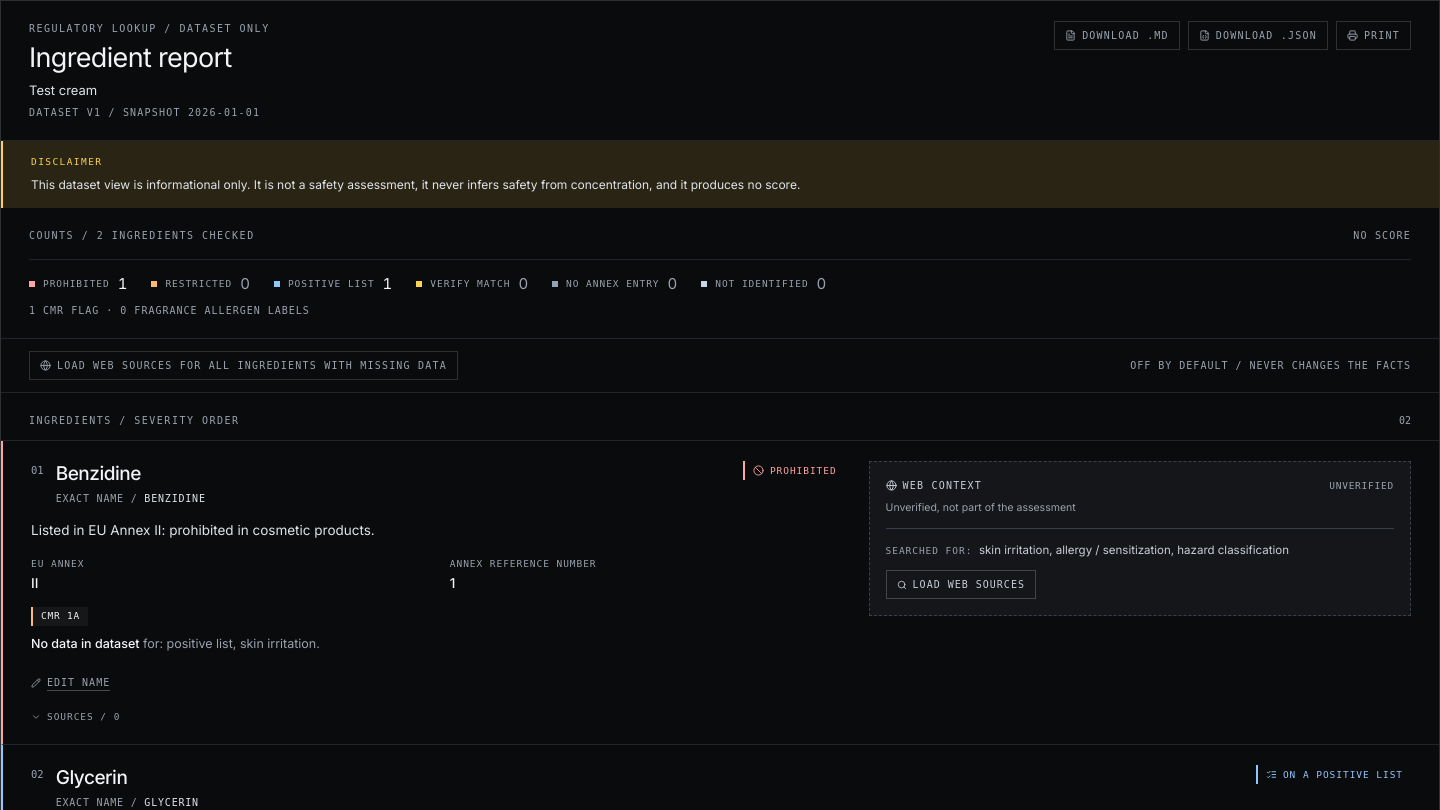
web context › renders verbatim items after a click and never changes the dataset text
This screenshot has width=1440, height=810.
Click the button "Load web sources" at (961, 584), box top-left (886, 570), bottom-right (1036, 599)
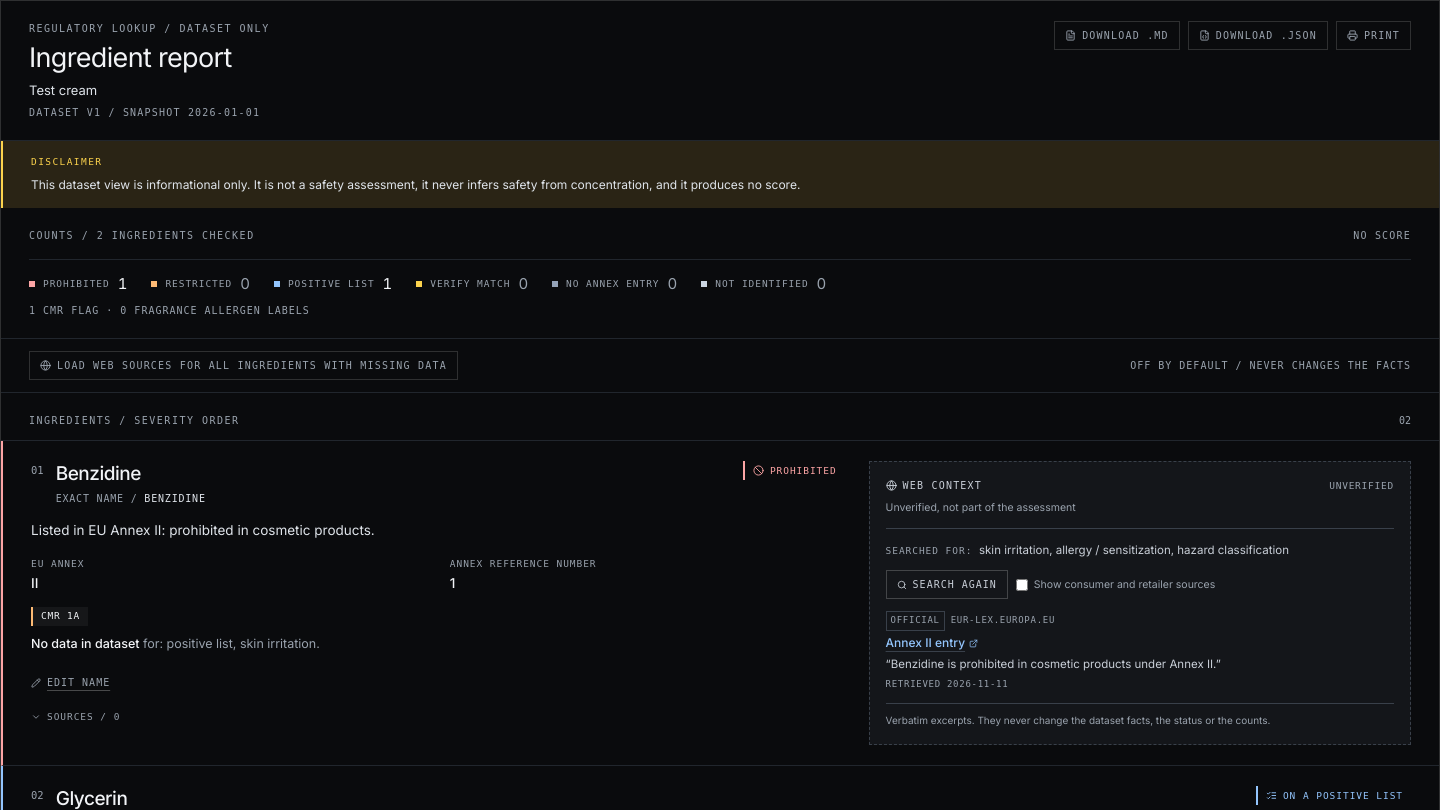
Expected: the text "Prohibited" is shown, top-left (743, 461), bottom-right (845, 480)
Expected: the element with test id "web-panel" shows "retrieved 2026-11-11", top-left (869, 461), bottom-right (1411, 746)
Expected: the element with test id "web-panel" shows "Official", top-left (891, 615), bottom-right (940, 625)
